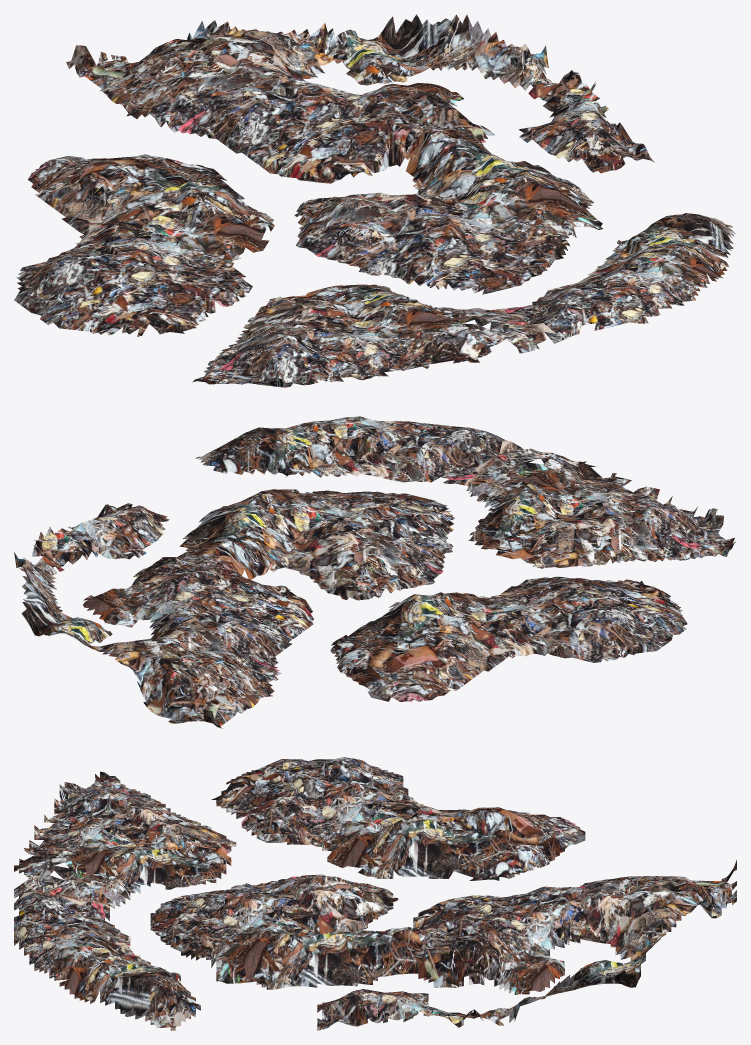
File: m_TrashPileLarge01.fbx
The picture shows the model from 3 angles, top to bottom: view 1: azimuth 30°, elevation 25°; view 2: azimuth 150°, elevation 25°; view 3: azimuth 270°, elevation 25°; orthographic projection. The views are drawn at different scales.
Visible parts, largest first — view 1: polySurface7; view 2: polySurface7; view 3: polySurface7.
Boxes of the visible parts, x1,y1,x2,y2 form: polySurface7: [14, 14, 736, 387]; polySurface7: [14, 416, 735, 728]; polySurface7: [14, 757, 736, 1030].
Bounding box in the file's own units: 129 × 10.08 × 143.
1 material, 1 textured.
